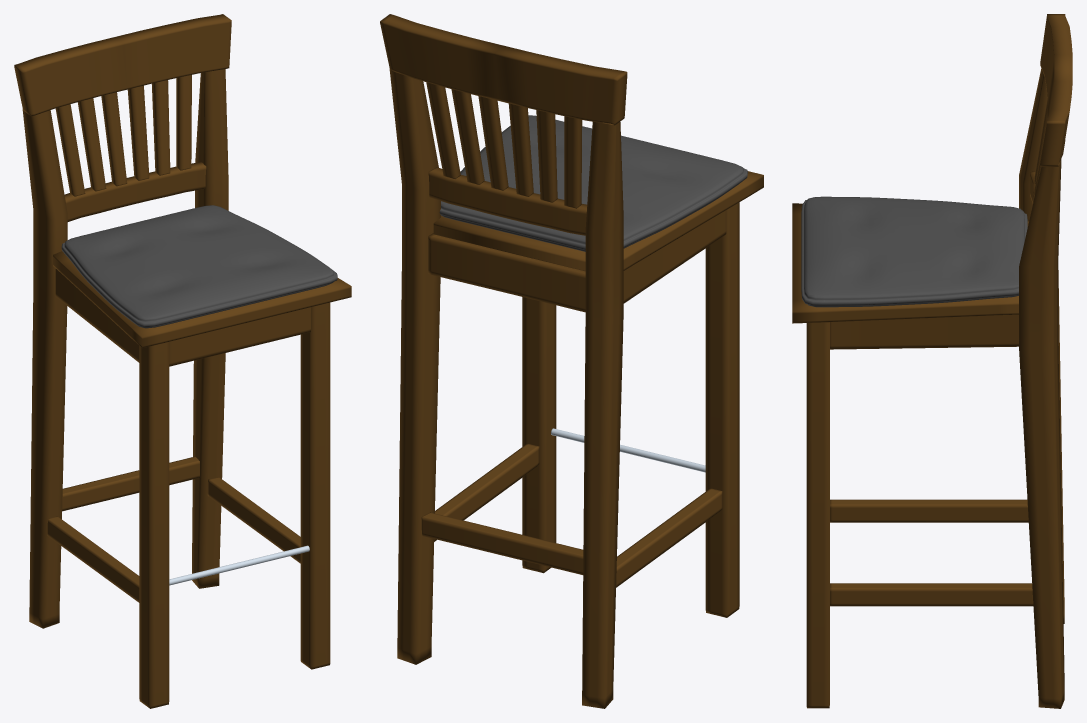
Rendered from kitchenChair.fbx.
3 views of the same model, side by side, from view 1: azimuth 30°, elevation 25°; view 2: azimuth 150°, elevation 25°; view 3: azimuth 270°, elevation 25° (orthographic). The views are drawn at different scales.
Visible parts, largest first — view 1: kitchenChair, kitchenChairCushion; view 2: kitchenChair, kitchenChairCushion; view 3: kitchenChair, kitchenChairCushion.
Boxes of the visible parts, x1,y1,x2,y2 form: kitchenChair: [14, 14, 351, 708]; kitchenChairCushion: [61, 205, 337, 328]; kitchenChair: [380, 14, 763, 708]; kitchenChairCushion: [439, 115, 747, 251]; kitchenChair: [792, 14, 1072, 708]; kitchenChairCushion: [801, 196, 1027, 307].
Bounding box in the file's own units: 39.6 × 101 × 43.24.
